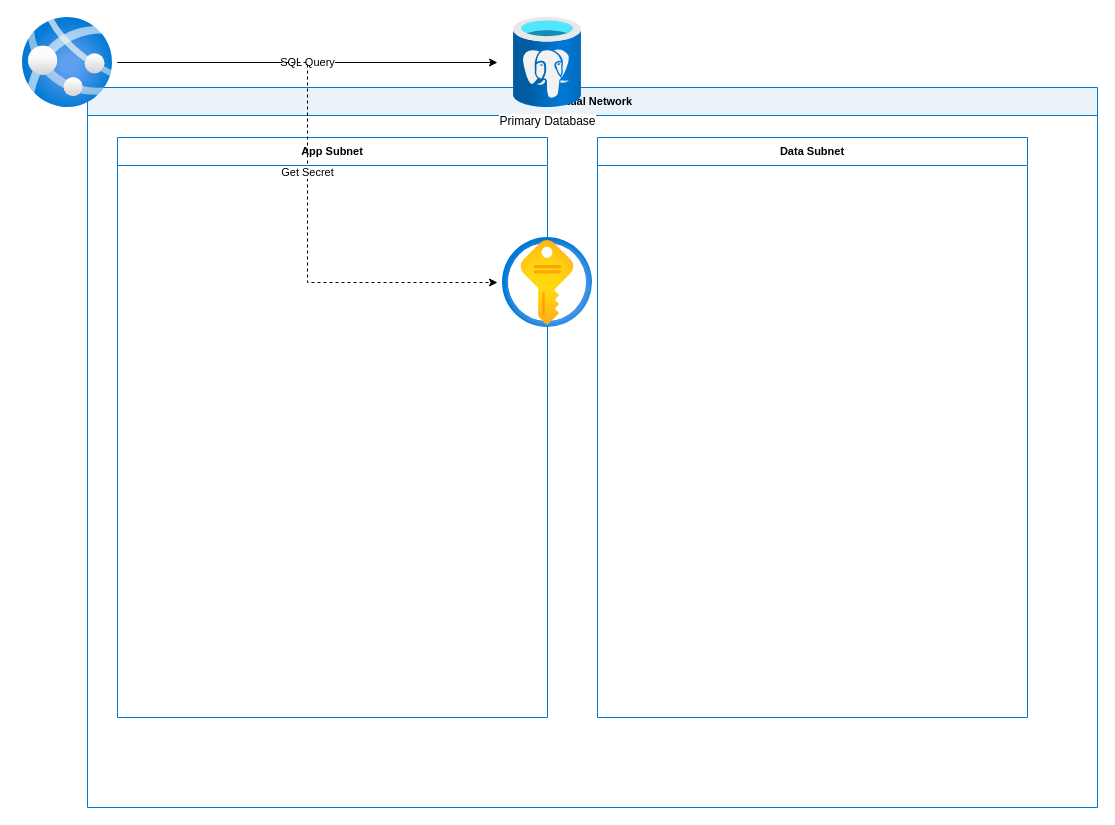
The diagram is 1115 pixels wide and 825 high, and some of its shapes have lost their labels. The shapes that lost their labels are listed below. From the top down, each one's box as (x1, y1, x2, y2) in pixels, then its label:
(17, 17, 117, 107): Web Application
(497, 237, 597, 327): Secrets Vault
